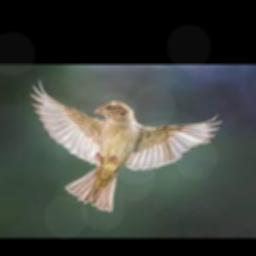Sparrow: (29, 79, 222, 211)
